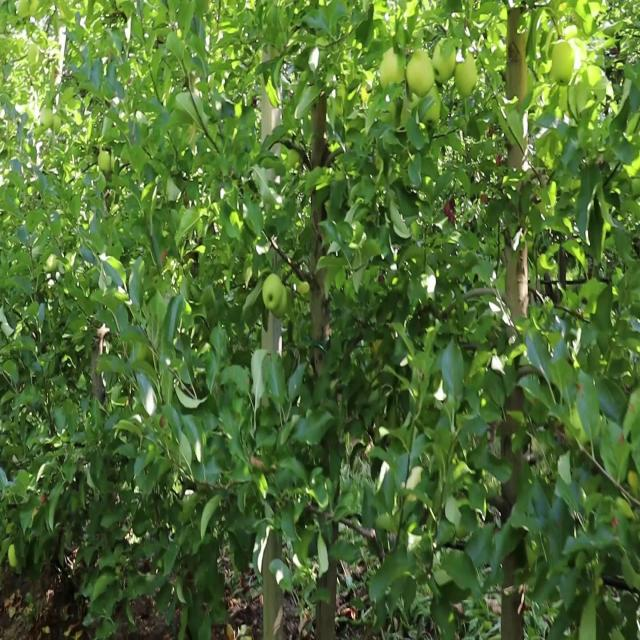apple: (408, 49, 435, 98), (380, 49, 407, 91), (552, 42, 576, 85), (456, 56, 480, 98), (568, 35, 588, 84), (436, 42, 456, 84), (264, 277, 284, 311), (420, 99, 443, 126), (396, 7, 420, 30), (360, 78, 375, 105), (588, 63, 602, 89), (444, 199, 457, 226), (164, 248, 168, 260)
